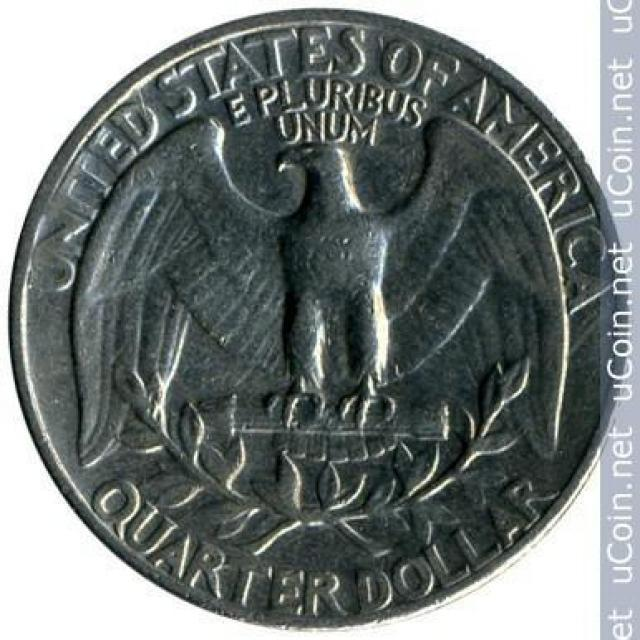Quarter: (8, 3, 625, 630)
